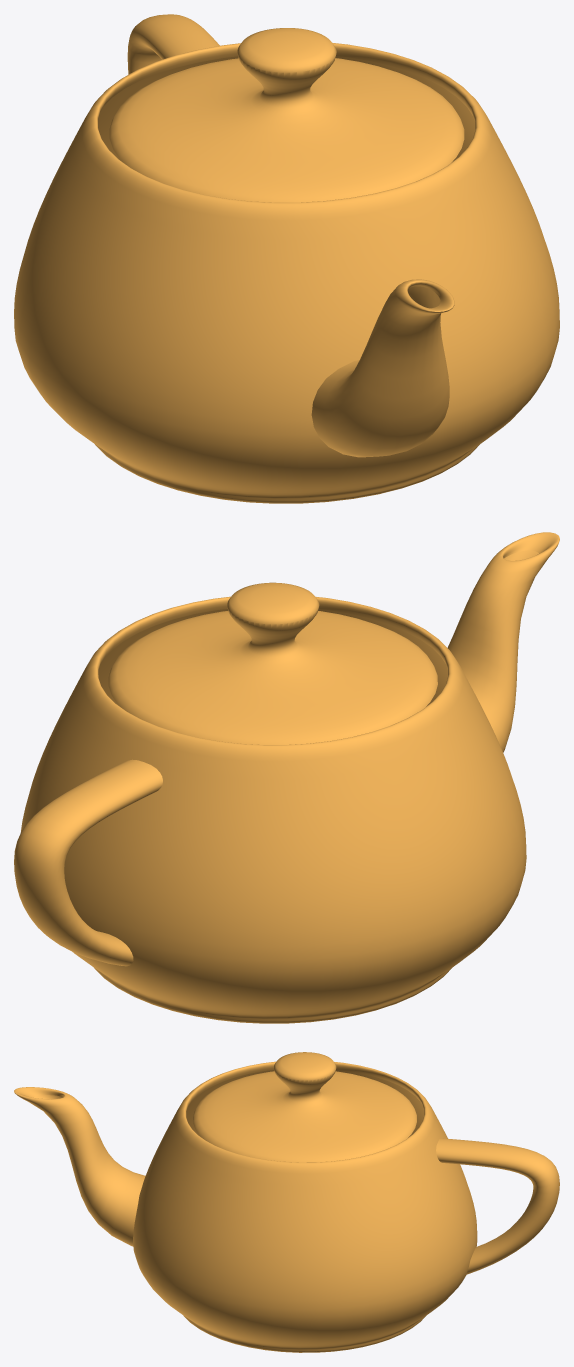
File: teapot_scene.fbx
3 renders of one model, top to bottom at view 1: azimuth 30°, elevation 25°; view 2: azimuth 150°, elevation 25°; view 3: azimuth 270°, elevation 25°, orthographic. The views are drawn at different scales.
Parts seen in each view (by area): view 1: Teapot_Node; view 2: Teapot_Node; view 3: Teapot_Node.
Part boxes in pixels (x1=…): Teapot_Node: x1=14, y1=14, x2=559, y2=503; Teapot_Node: x1=14, y1=532, x2=559, y2=1023; Teapot_Node: x1=14, y1=1052, x2=559, y2=1352.
Size of what is drawn, in the model's own units: 1.97 by 1.55 by 3.12.
